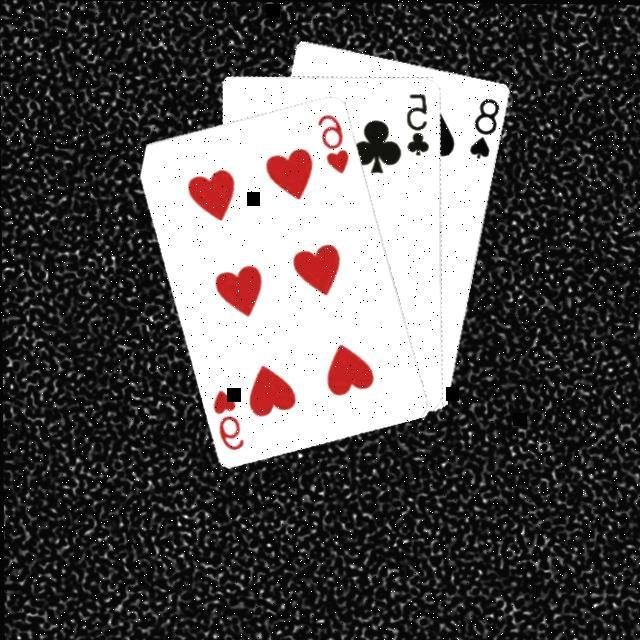5C: (402, 91, 430, 159)
6H: (208, 388, 246, 456), (314, 111, 352, 178)
8S: (466, 96, 502, 164)
